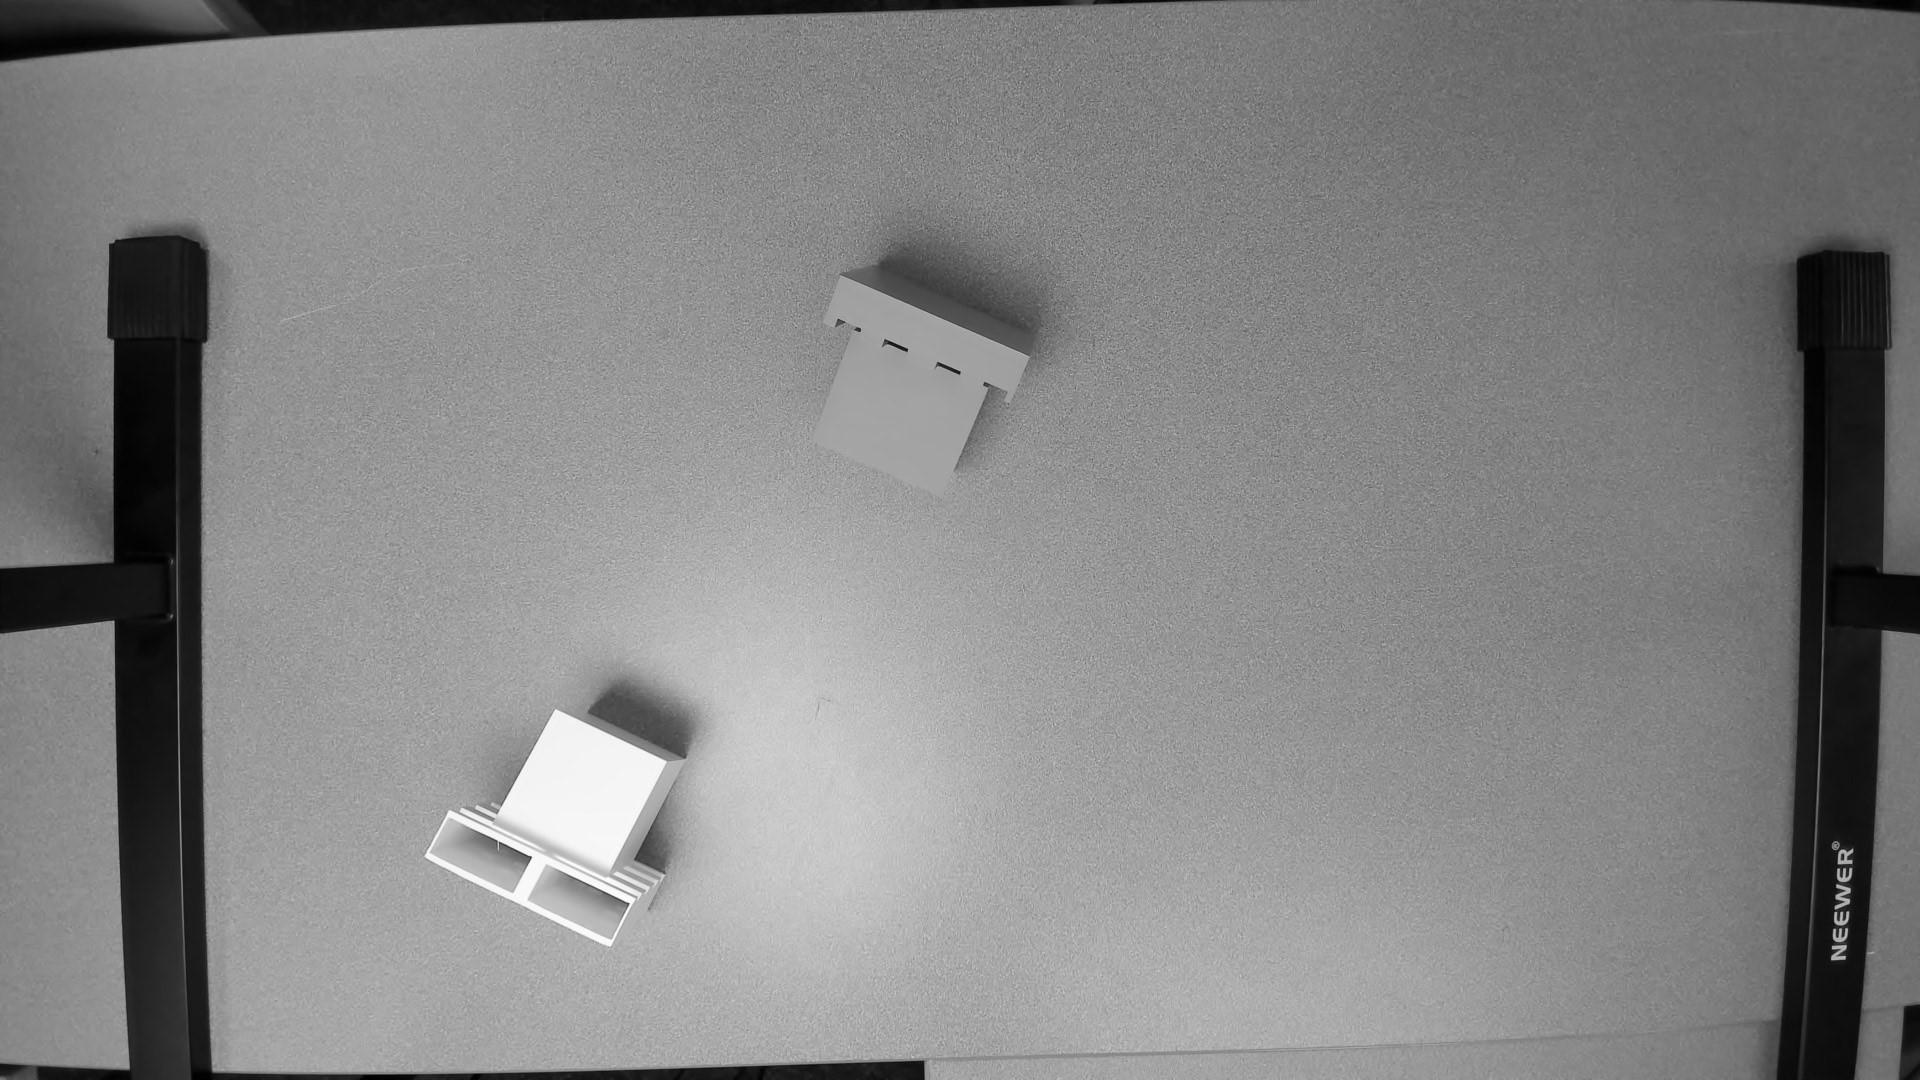grey pallet: (796, 255, 1050, 512)
white pallet: (422, 702, 696, 947)
